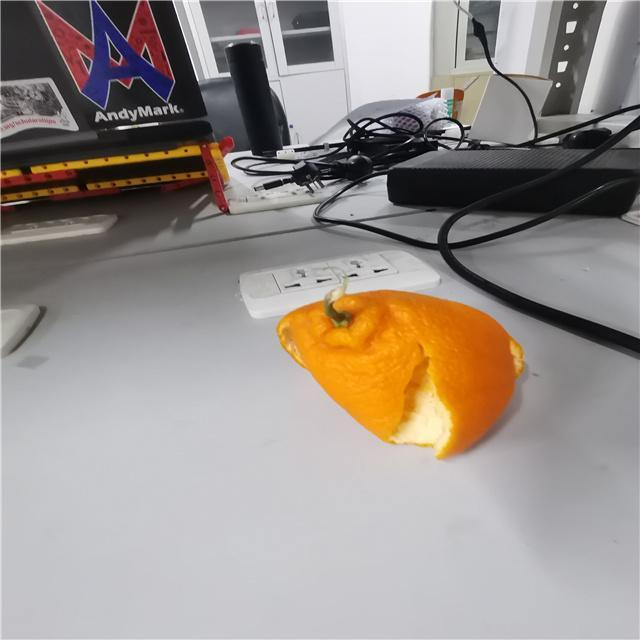orange-peel: (275, 282, 525, 459)
